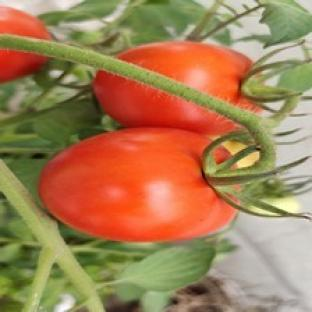Tomato: (39, 127, 236, 242), (117, 42, 259, 111), (0, 6, 51, 40)
